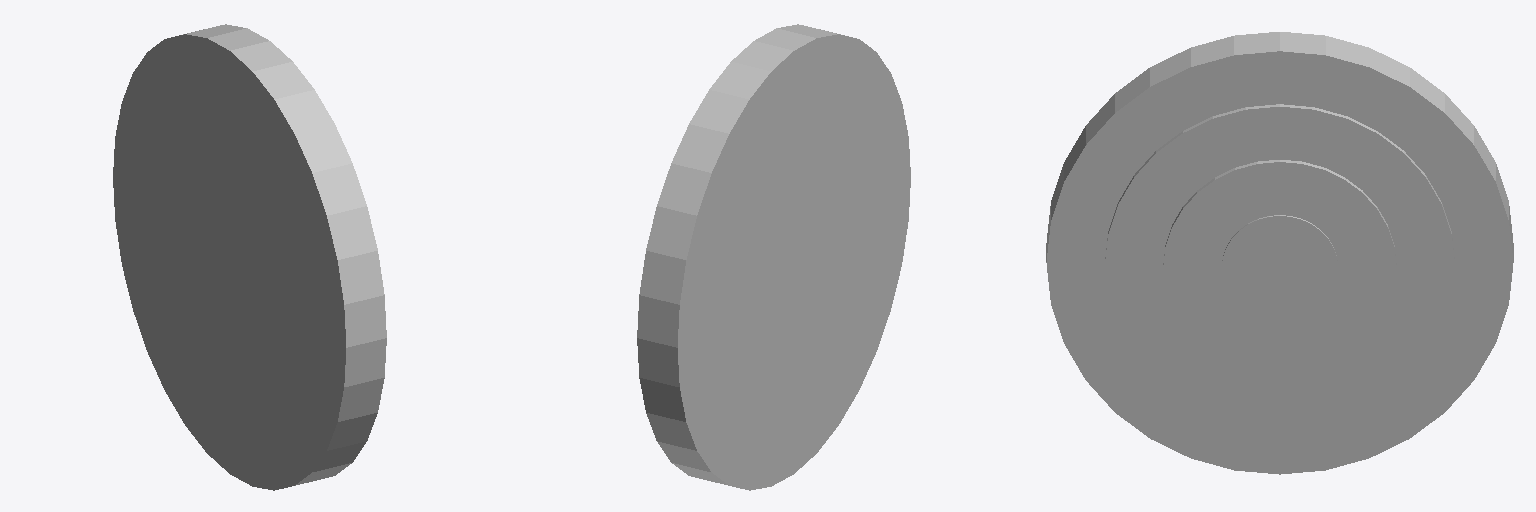
The model's file is target.obj.
3 views of the same model, side by side, from view 1: azimuth 30°, elevation 25°; view 2: azimuth 150°, elevation 25°; view 3: azimuth 270°, elevation 25° (orthographic).
Visible parts, largest first — view 1: Cylinder; view 2: Cylinder; view 3: Cylinder, Cylinder.001, Cylinder.002, Cylinder.003.
Boxes of the visible parts, box(x1,y1,x2,y2) form: Cylinder: box(113, 24, 386, 490); Cylinder: box(637, 24, 910, 490); Cylinder: box(1046, 32, 1513, 474); Cylinder.001: box(1105, 104, 1454, 423); Cylinder.002: box(1163, 160, 1396, 373); Cylinder.003: box(1222, 215, 1337, 321).
Bounding box in the file's own units: 0.26 × 2 × 2.